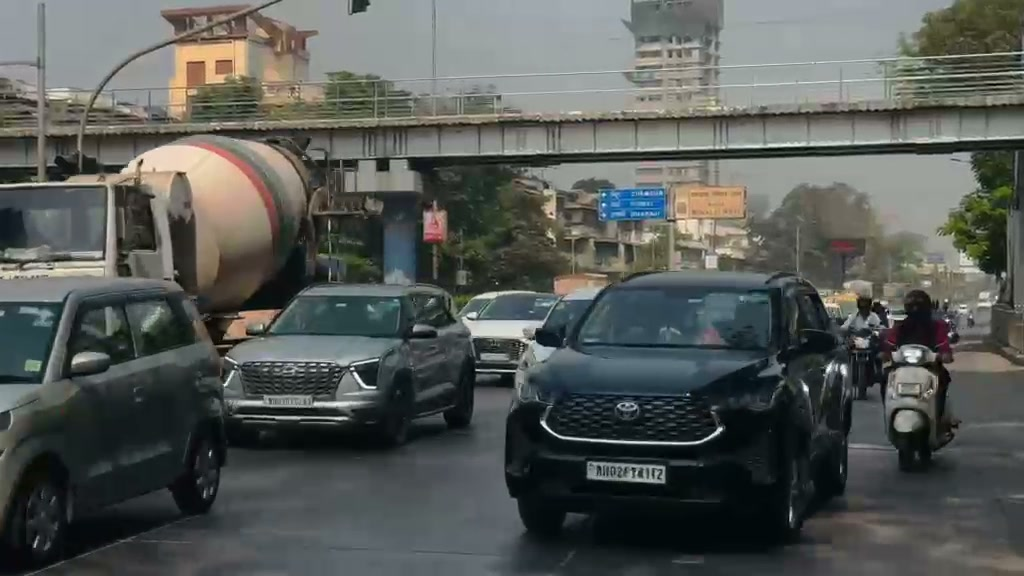car: (502, 270, 855, 541), (1, 273, 230, 567), (221, 282, 478, 449), (457, 290, 562, 382)
motorcycle: (876, 327, 958, 472), (844, 328, 881, 400)
pedestrian: (876, 287, 957, 430), (840, 292, 886, 395)
truck: (1, 134, 327, 340)
